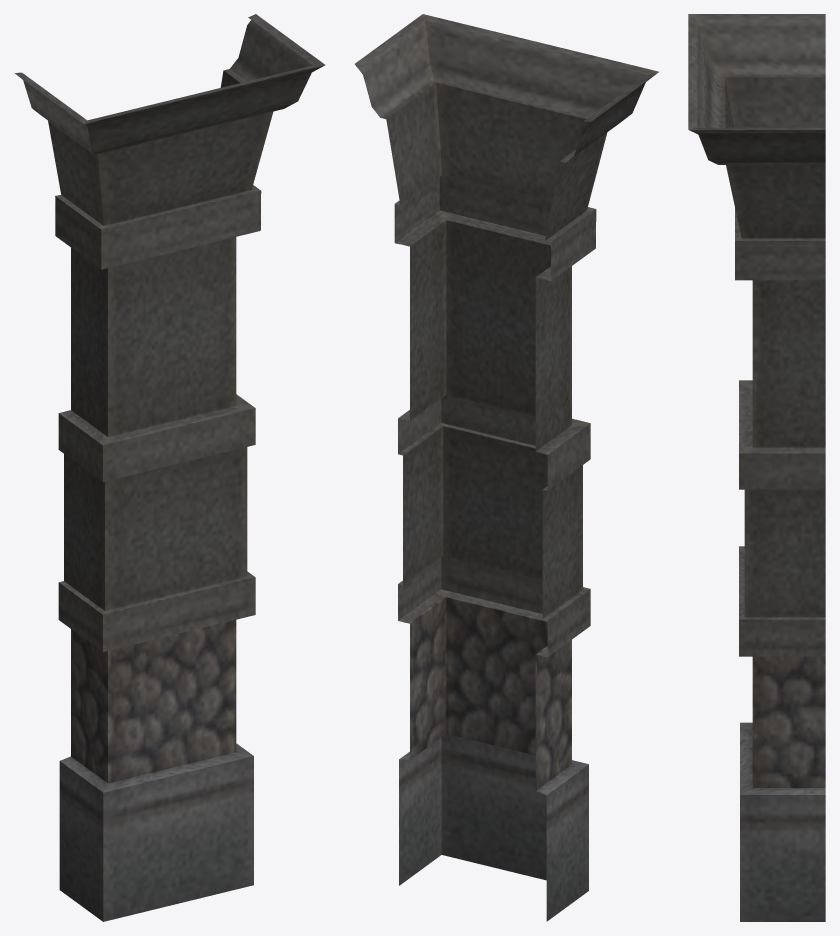
The model's file is Prop_pillar.fbx.
3 renders of one model, left to right at view 1: azimuth 30°, elevation 25°; view 2: azimuth 150°, elevation 25°; view 3: azimuth 270°, elevation 25°, orthographic. The views are drawn at different scales.
Visible parts, largest first — view 1: pillar_4:pCube1; view 2: pillar_4:pCube1; view 3: pillar_4:pCube1.
Boxes of the visible parts, x1=… form: pillar_4:pCube1: x1=14, y1=14, x2=325, y2=921; pillar_4:pCube1: x1=355, y1=14, x2=658, y2=921; pillar_4:pCube1: x1=688, y1=14, x2=825, y2=921.
Size of the model in its own units: 94.26 by 309 by 47.13.
